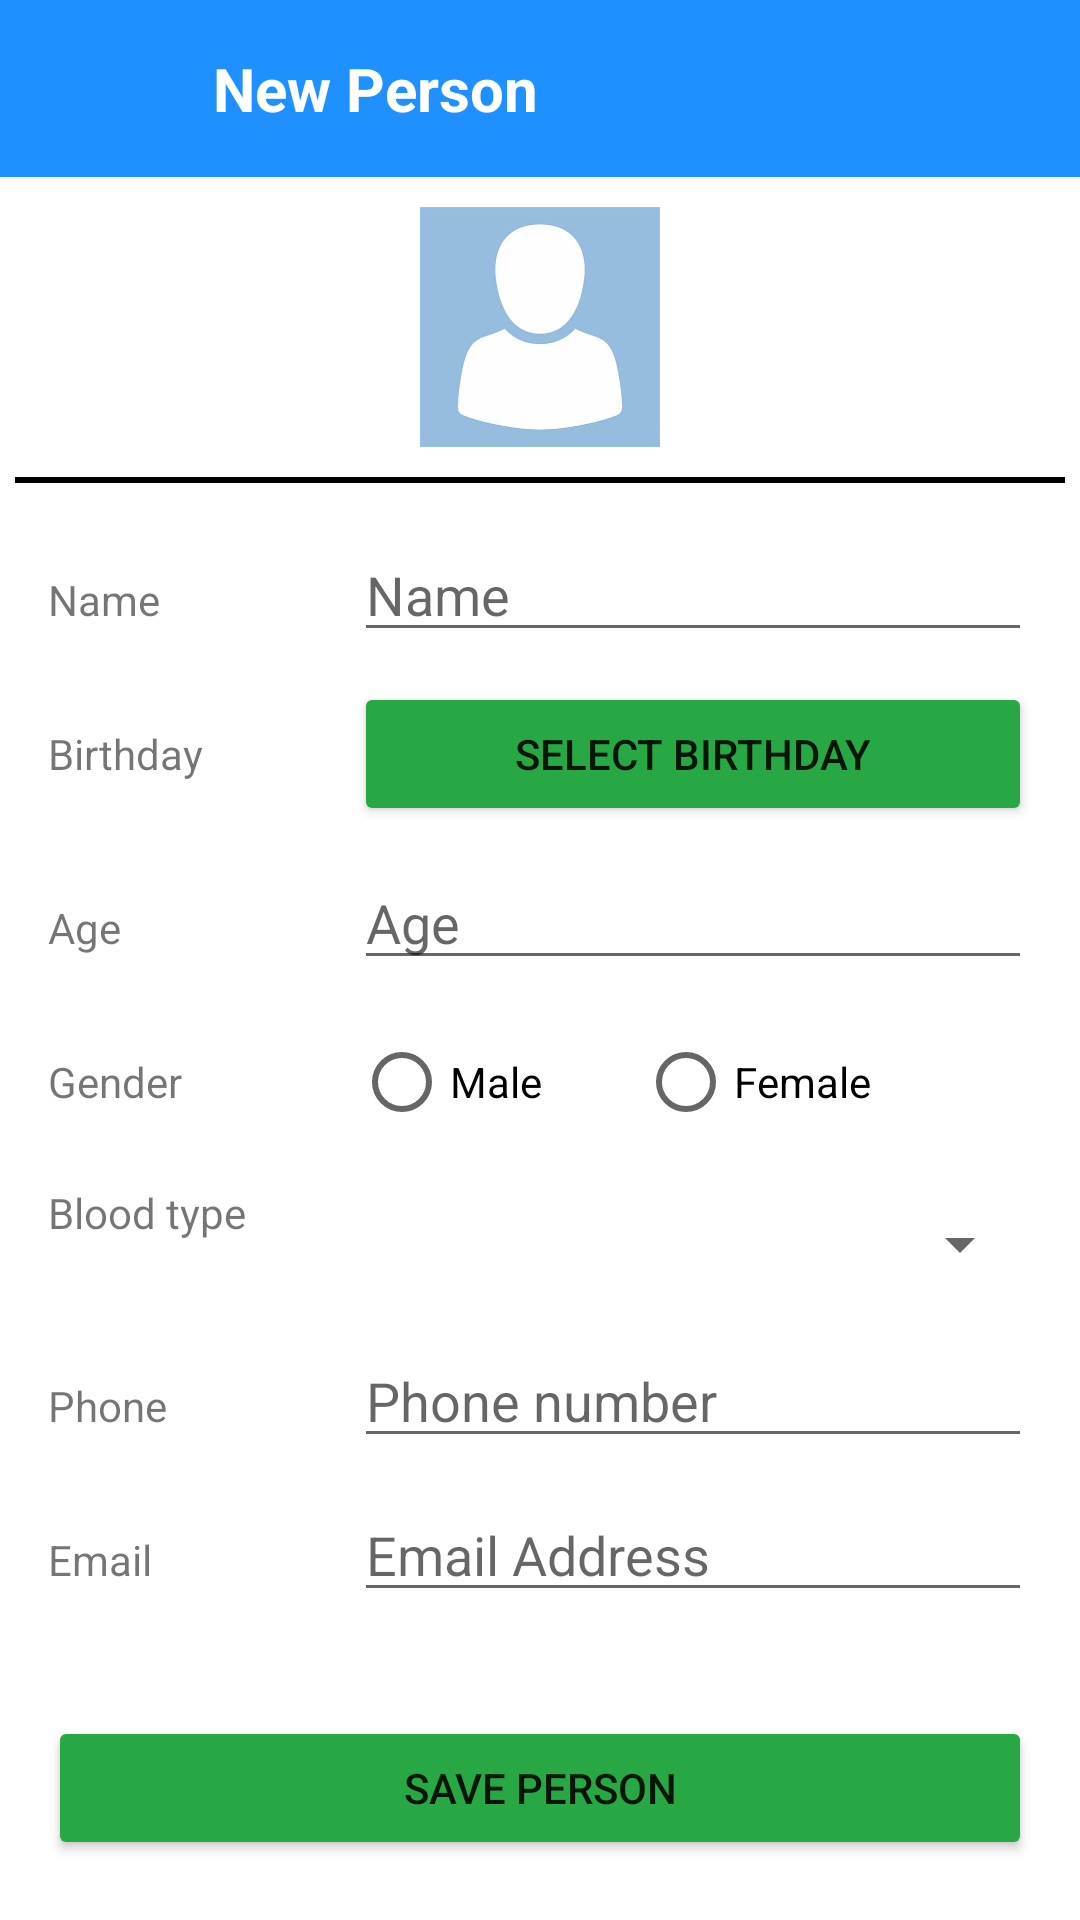

Screen size 1080px×1920px. Icon name, then its center in pixels as (x,y):
profiledummy: (540,327)
